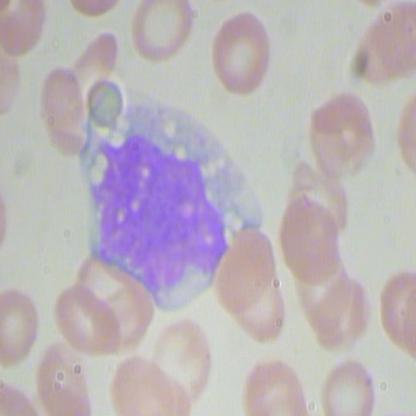RBC: (209, 222, 286, 317), (205, 10, 277, 105), (306, 87, 377, 182), (48, 281, 125, 366), (276, 191, 342, 284), (38, 60, 90, 154), (132, 1, 196, 62), (320, 358, 376, 415)
WBC: (72, 92, 273, 314)
